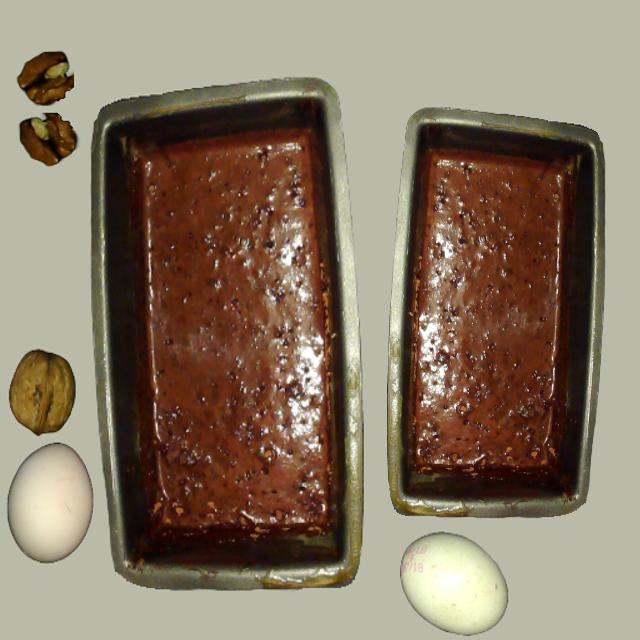Walnut: (9, 351, 75, 437)
